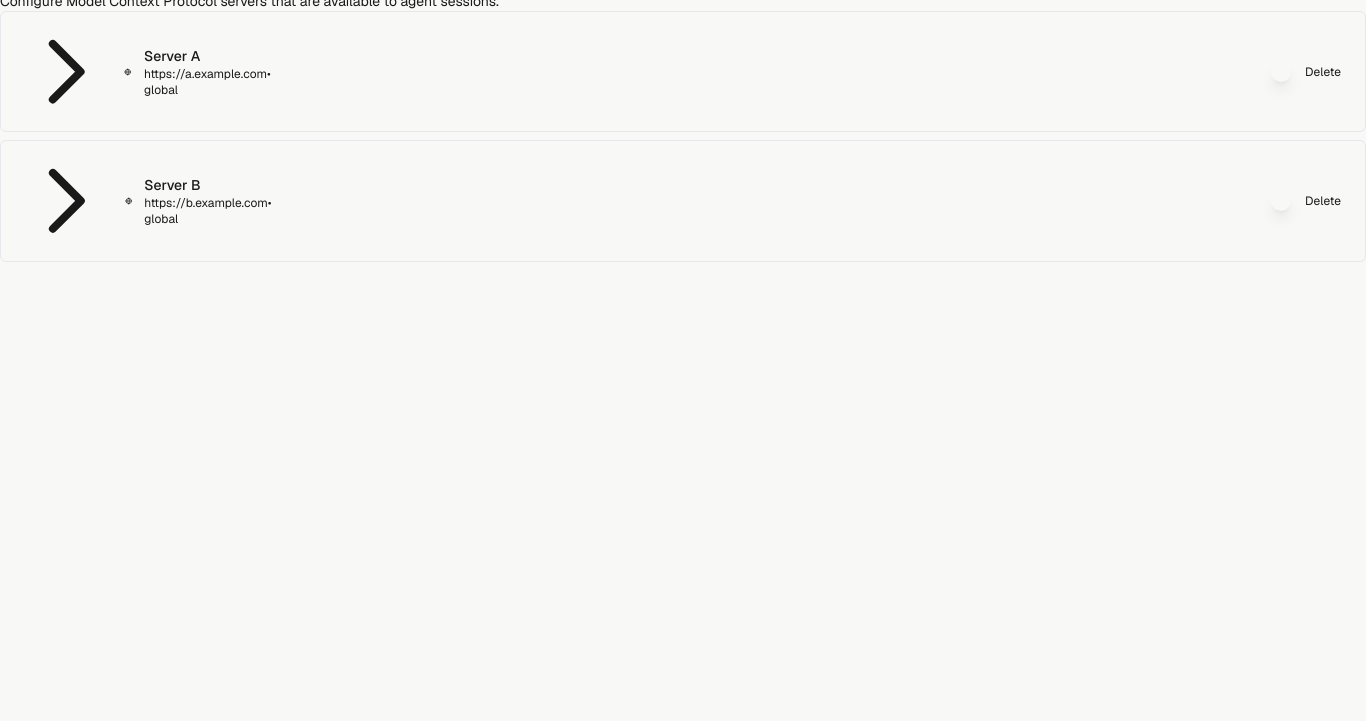
Scenario: McpServersSettings › does not close a newer draft when an older save completes
Click the button "Server A https://a.example.com• global" at (119, 72), box [17,24,221,119]
(page scrolled)
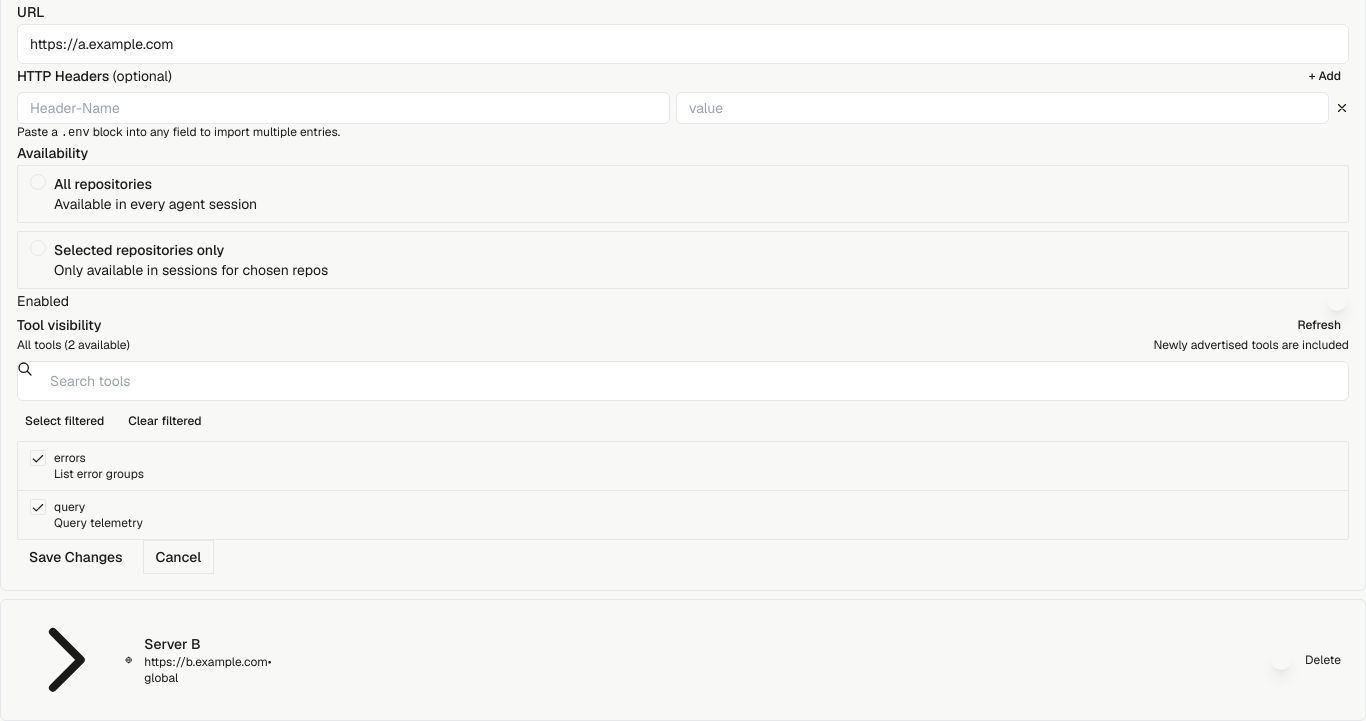
Click the button "Save Changes" at (76, 557), box [17,540,135,574]
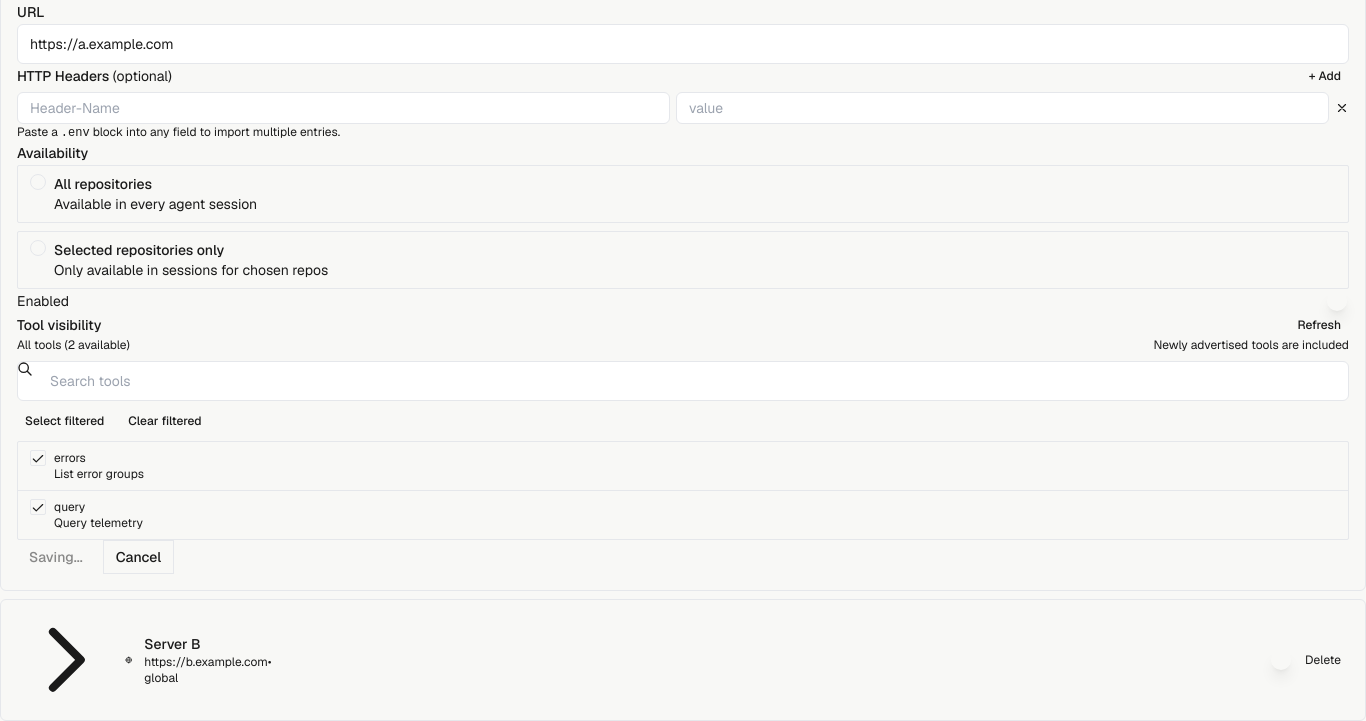
Click the button "Server B https://b.example.com• global" at (119, 660), box [17,612,221,708]
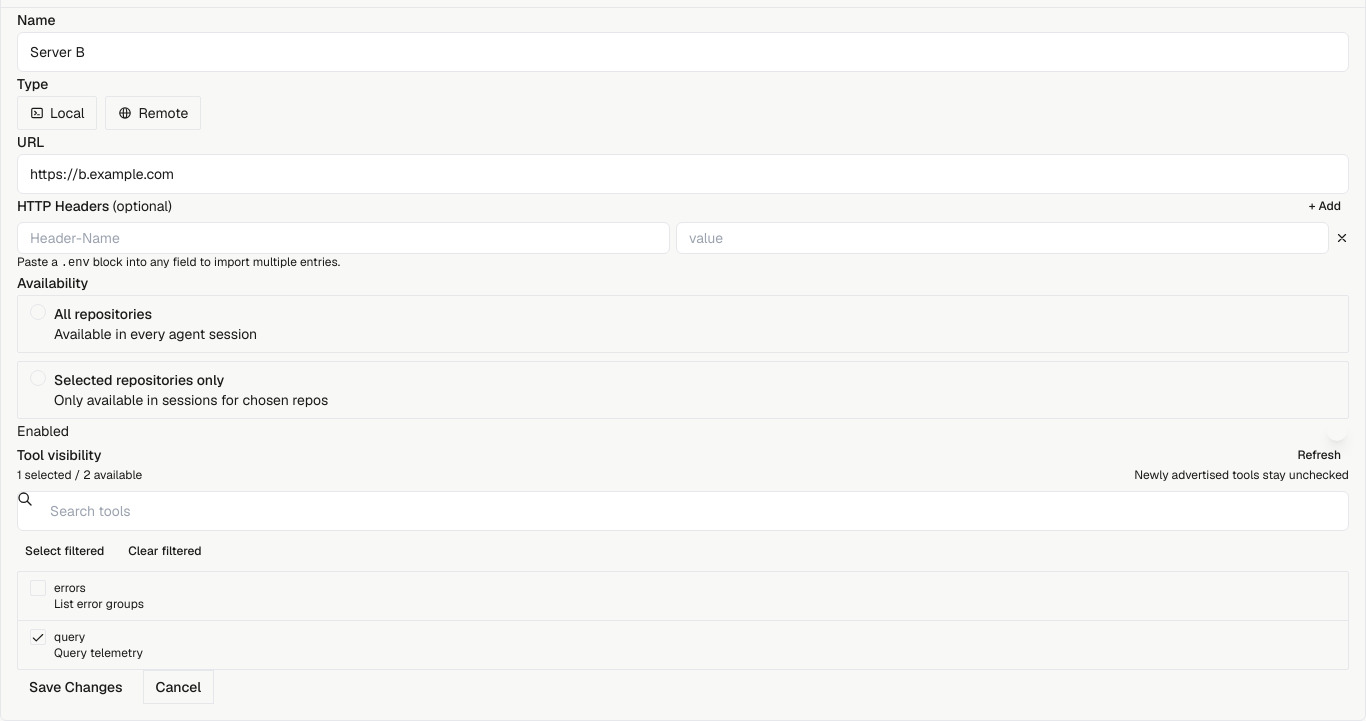
Now the field showing "https://b.example.com" below "URL" is shown, box [17,154,1349,194]
